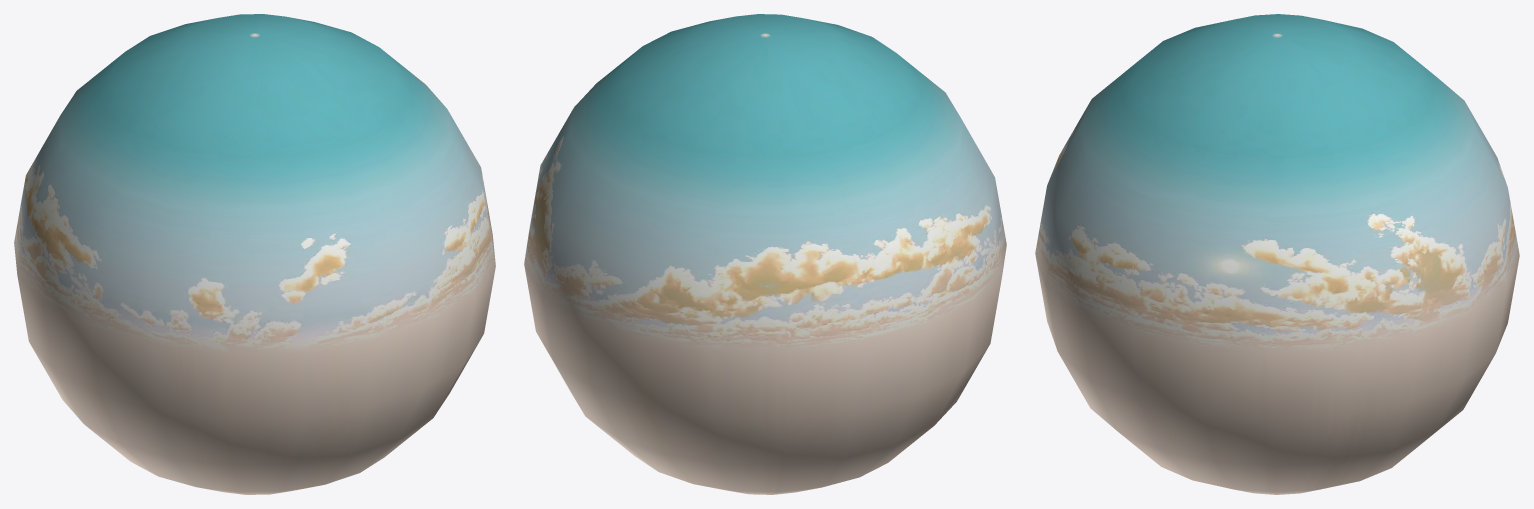
The model's file is tour_paris_promenade-transformed.glb.
The picture shows the model from 3 angles, left to right: view 1: azimuth 30°, elevation 25°; view 2: azimuth 150°, elevation 25°; view 3: azimuth 270°, elevation 25°; orthographic projection.
Visible parts, largest first — view 1: Gmob_Paris_VR_M_Mobp1_VR_0; view 2: Gmob_Paris_VR_M_Mobp1_VR_0; view 3: Gmob_Paris_VR_M_Mobp1_VR_0.
Boxes of the visible parts, x1,y1,x2,y2 form: Gmob_Paris_VR_M_Mobp1_VR_0: [14, 14, 495, 494]; Gmob_Paris_VR_M_Mobp1_VR_0: [524, 14, 1006, 494]; Gmob_Paris_VR_M_Mobp1_VR_0: [1035, 14, 1519, 494].
Size of what is drawn, in the model's own units: 86.8 by 86.81 by 86.8.
Materials: 10 (8 with a texture image).
